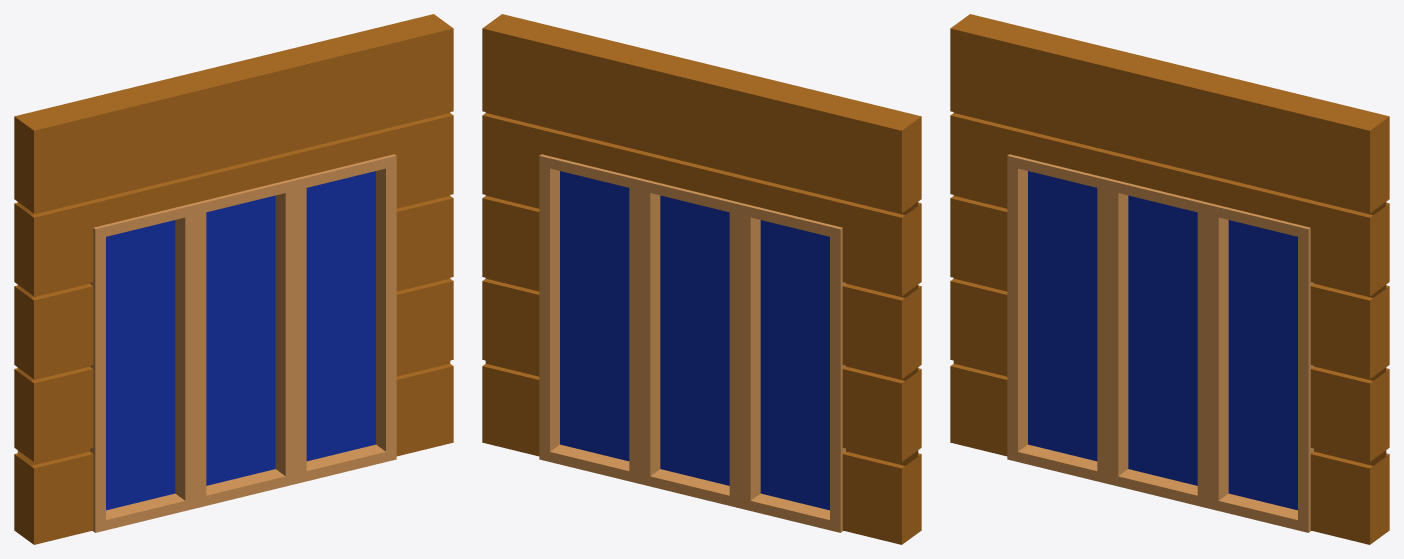
File: Window03_house5.obj
The picture shows the model from 3 angles, left to right: view 1: azimuth 30°, elevation 25°; view 2: azimuth 150°, elevation 25°; view 3: azimuth 330°, elevation 25°; orthographic projection.
Parts seen in each view (by area): view 1: Window03_house05_Cube.029; view 2: Window03_house05_Cube.029; view 3: Window03_house05_Cube.029.
Part boxes in pixels (x1,y1,x2,y2): Window03_house05_Cube.029: [14, 14, 453, 544]; Window03_house05_Cube.029: [482, 14, 921, 544]; Window03_house05_Cube.029: [950, 14, 1389, 544].
Size of the model in its own units: 3.19 by 3.01 by 0.3161.
